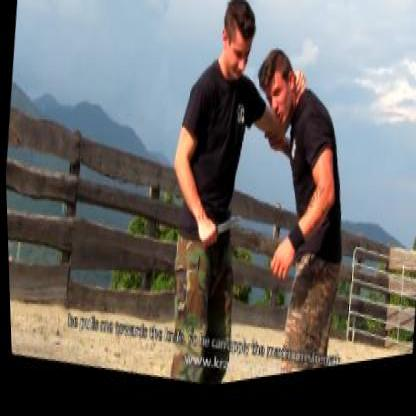knife: (194, 206, 243, 267)
